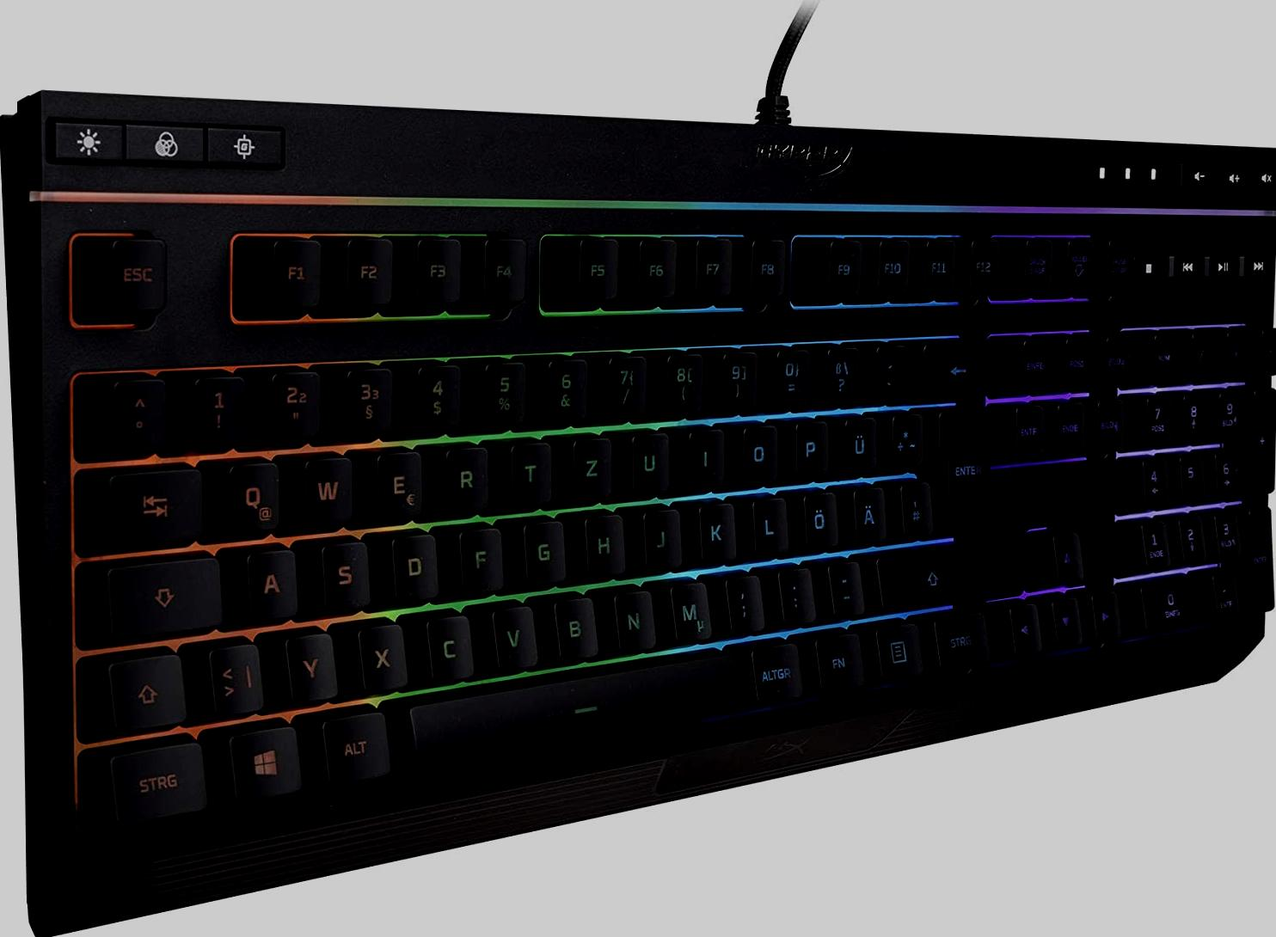0: (771, 343, 811, 406)
1: (190, 371, 246, 444)
2: (267, 365, 322, 439)
3: (342, 362, 394, 435)
4: (414, 359, 463, 430)
5: (481, 358, 528, 426)
6: (543, 353, 590, 421)
7: (604, 351, 647, 416)
8: (661, 349, 704, 414)
9: (718, 346, 759, 410)
a: (243, 542, 298, 618)
accent: (873, 340, 907, 398)
ae: (850, 481, 887, 542)
alt-left: (319, 704, 391, 782)
altgr-right: (747, 640, 803, 701)
b: (550, 592, 598, 658)
c: (423, 610, 474, 679)
caret: (111, 372, 168, 450)
comma: (722, 569, 764, 631)
d: (390, 529, 439, 600)
del: (920, 338, 998, 395)
e: (371, 444, 423, 517)
enter: (937, 400, 991, 533)
f: (457, 523, 504, 591)
g: (520, 516, 566, 583)
h: (581, 508, 625, 575)
hash: (898, 477, 933, 536)
i: (685, 423, 725, 487)
j: (641, 504, 682, 568)
k: (696, 497, 737, 561)
keyboard: (39, 194, 1275, 877)
l: (750, 493, 788, 554)
less: (206, 635, 264, 713)
m: (666, 576, 711, 640)
minus: (825, 557, 864, 613)
n: (610, 585, 655, 649)
o: (739, 420, 778, 481)
oe: (801, 487, 838, 548)
p: (792, 415, 829, 476)
plus: (890, 408, 923, 466)
point: (776, 563, 815, 622)
q: (224, 455, 281, 534)
r: (443, 441, 490, 511)
s: (318, 536, 371, 609)
shift-left: (107, 647, 188, 730)
shift-lock: (104, 551, 224, 638)
shift-right: (874, 541, 991, 609)
space: (408, 643, 740, 765)
ss: (823, 342, 861, 403)
strg-left: (105, 733, 210, 824)
strg-right: (930, 609, 991, 666)
t: (507, 436, 553, 504)
tab: (106, 462, 205, 545)
u: (629, 427, 671, 493)
ue: (842, 412, 877, 472)
v: (489, 600, 538, 667)
w: (300, 449, 353, 524)
x: (356, 618, 408, 688)
y: (283, 627, 339, 700)
z: (569, 432, 613, 499)
